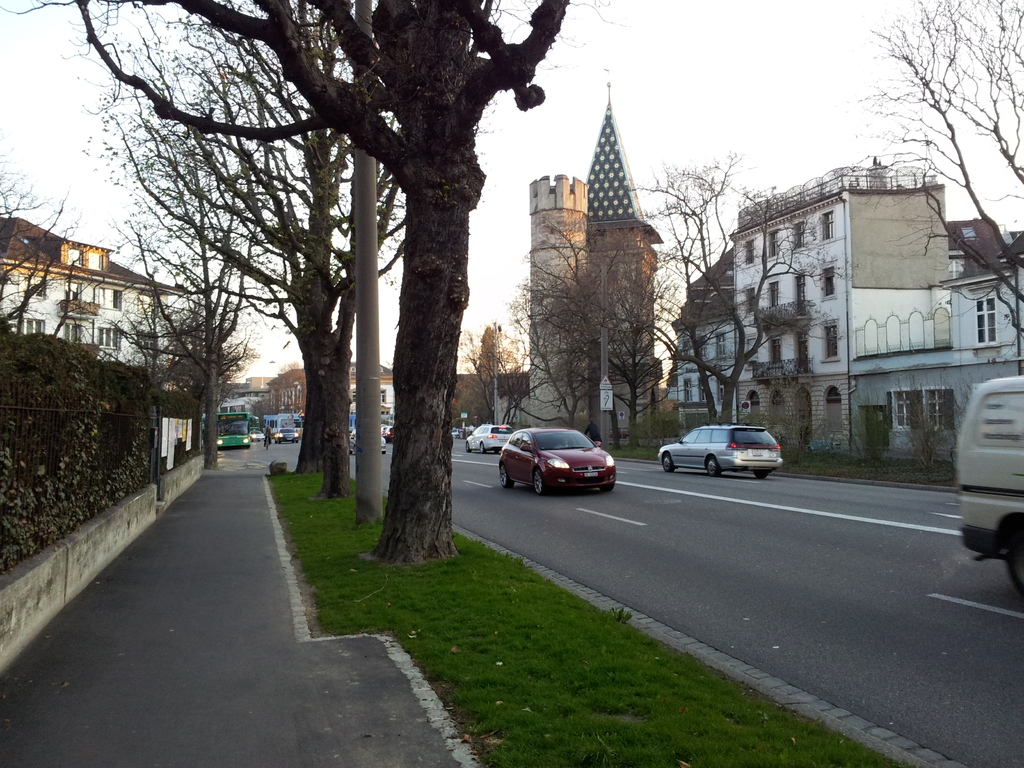Car: (503, 423, 617, 495), (667, 425, 768, 473), (472, 423, 491, 452), (272, 430, 293, 440)
